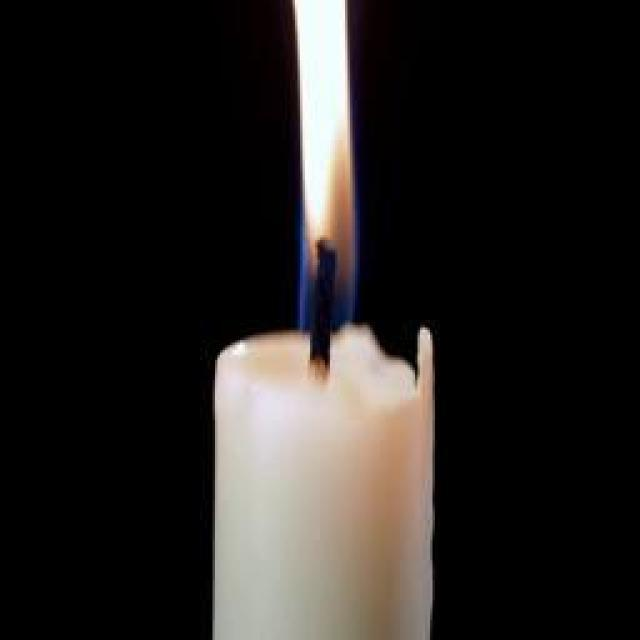Fire: (290, 0, 357, 332)
